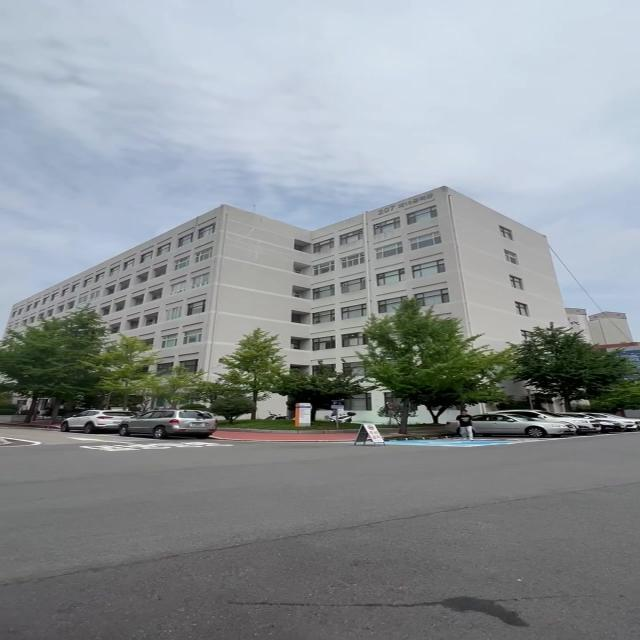building: (85, 188, 553, 319)
